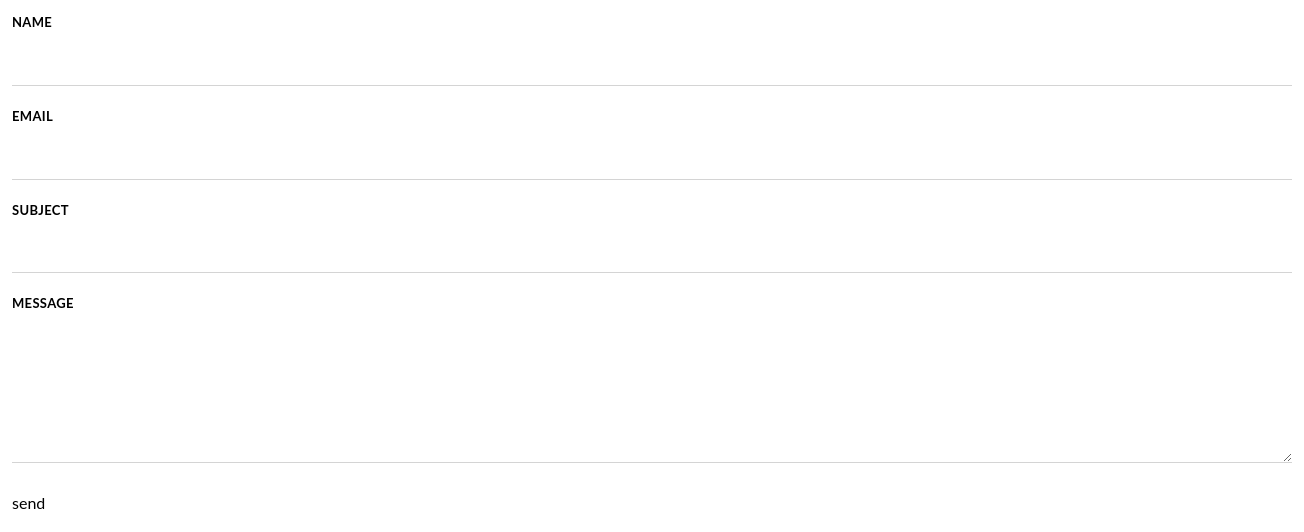
ContactForm › validates and submits normalized contact data
Step 1. Type "  Max Muster  " into the field labelled "name" → [652, 63], box [12,41,1292,86]
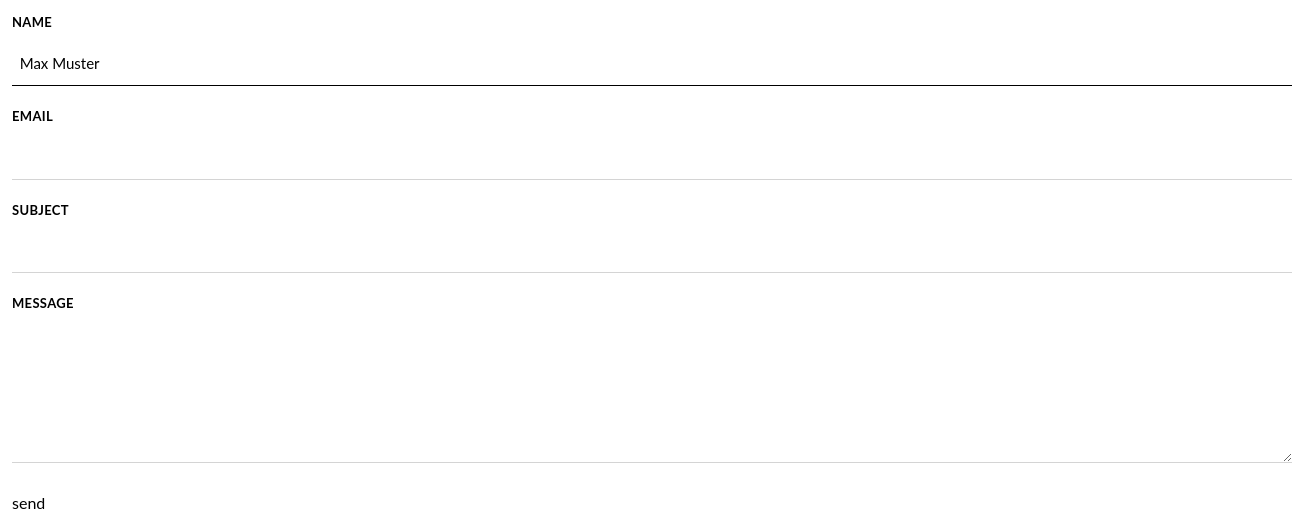
Step 2. Type "max@example.com" into the field labelled "email" → [652, 157], box [12,135,1292,180]
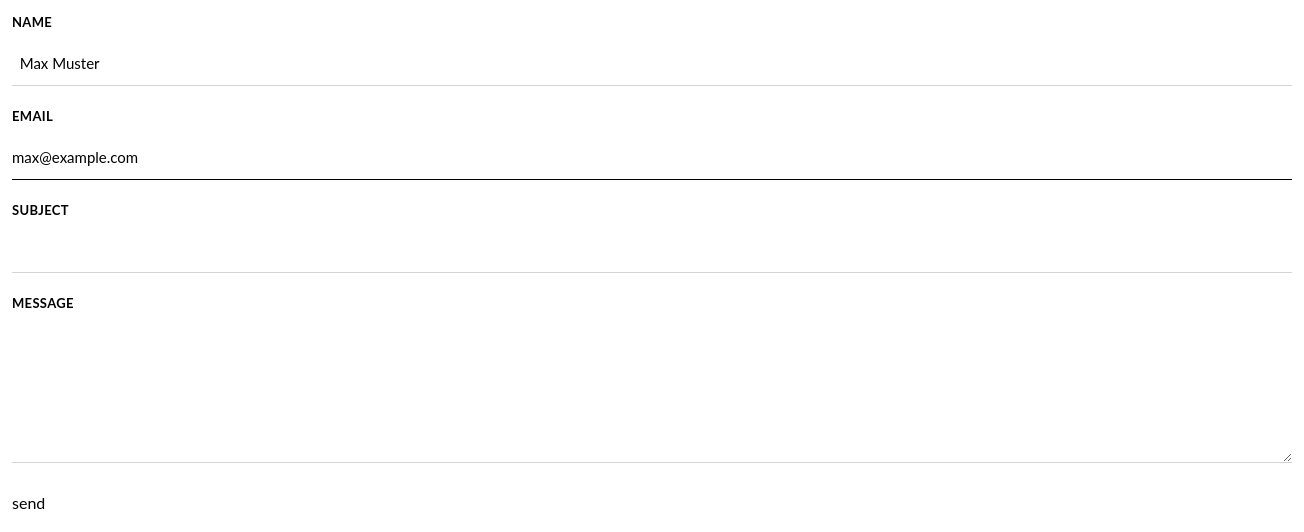
Step 3. Type "Mitgliedschaft" into the field labelled "subject" → [652, 251], box [12,228,1292,273]
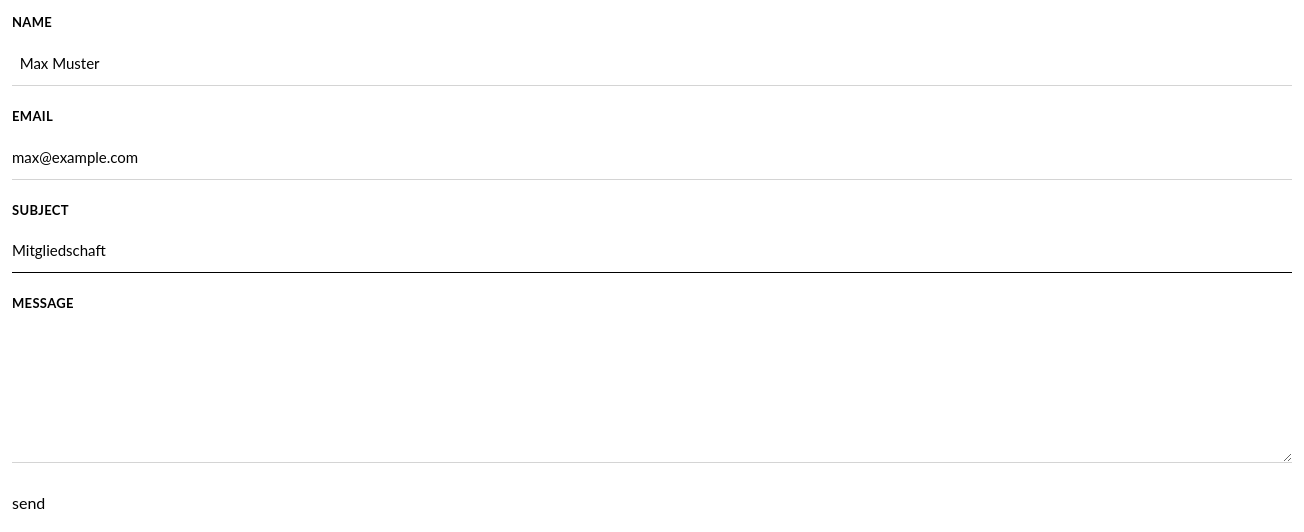
Step 4. Type "Ich möchte gerne Mitglied werden." into the text box labelled "message" → [652, 393], box [12,322,1292,463]
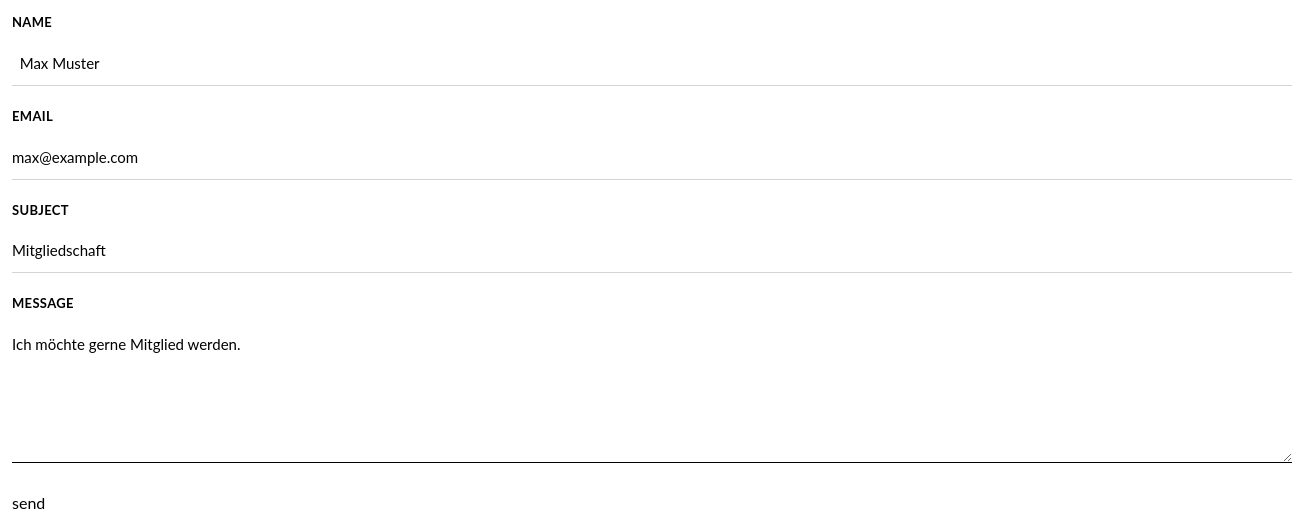
Step 5. Click the button "send" → [29, 503], box [12,490,45,515]
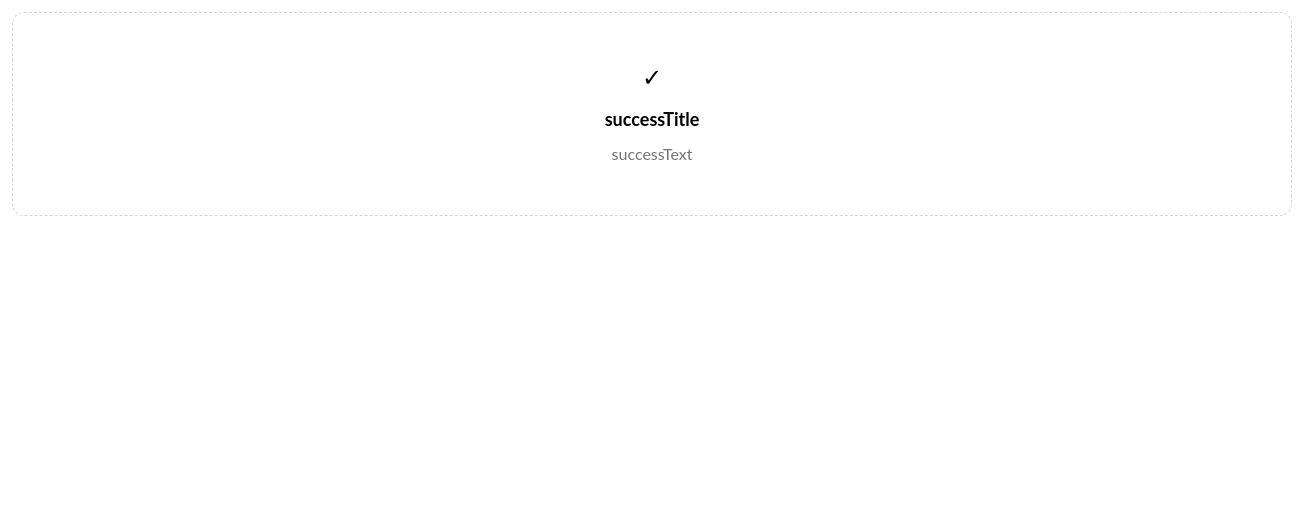
Expected: the text "successTitle" is shown, [605,108,699,130]
